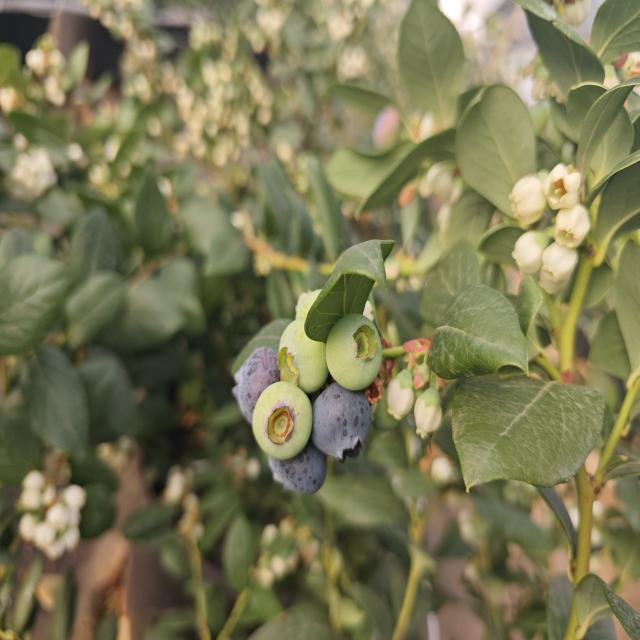ripe: (310, 380, 374, 464), (235, 336, 281, 414), (266, 443, 329, 498)
